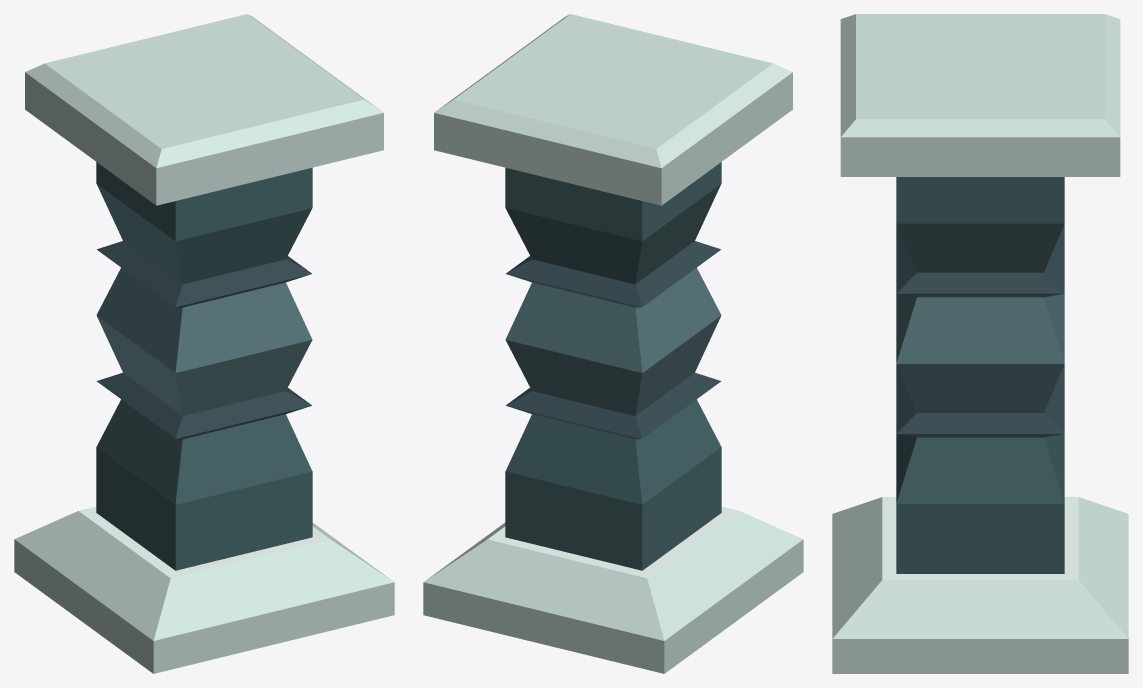
File: pedestal.fbx
3 renders of one model, left to right at view 1: azimuth 30°, elevation 25°; view 2: azimuth 150°, elevation 25°; view 3: azimuth 270°, elevation 25°, orthographic. The views are drawn at different scales.
Visible parts, largest first — view 1: pedestal; view 2: pedestal; view 3: pedestal.
Boxes of the visible parts, x1,y1,x2,y2 form: pedestal: [14, 14, 394, 673]; pedestal: [423, 14, 803, 673]; pedestal: [832, 14, 1128, 673].
Size of the model in its own units: 50 by 102 by 50.
1 material, 1 textured.
